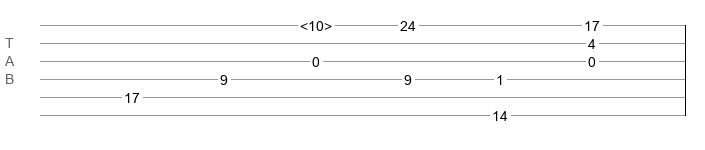0: (312, 54, 320, 64), (588, 54, 596, 64)
1: (496, 72, 504, 82)
14: (492, 108, 508, 118)
17: (124, 90, 140, 100), (584, 18, 600, 28)
24: (400, 18, 416, 28)
4: (588, 36, 596, 46)
9: (220, 72, 228, 82), (404, 72, 412, 82)
harmonic: (300, 18, 332, 28)
